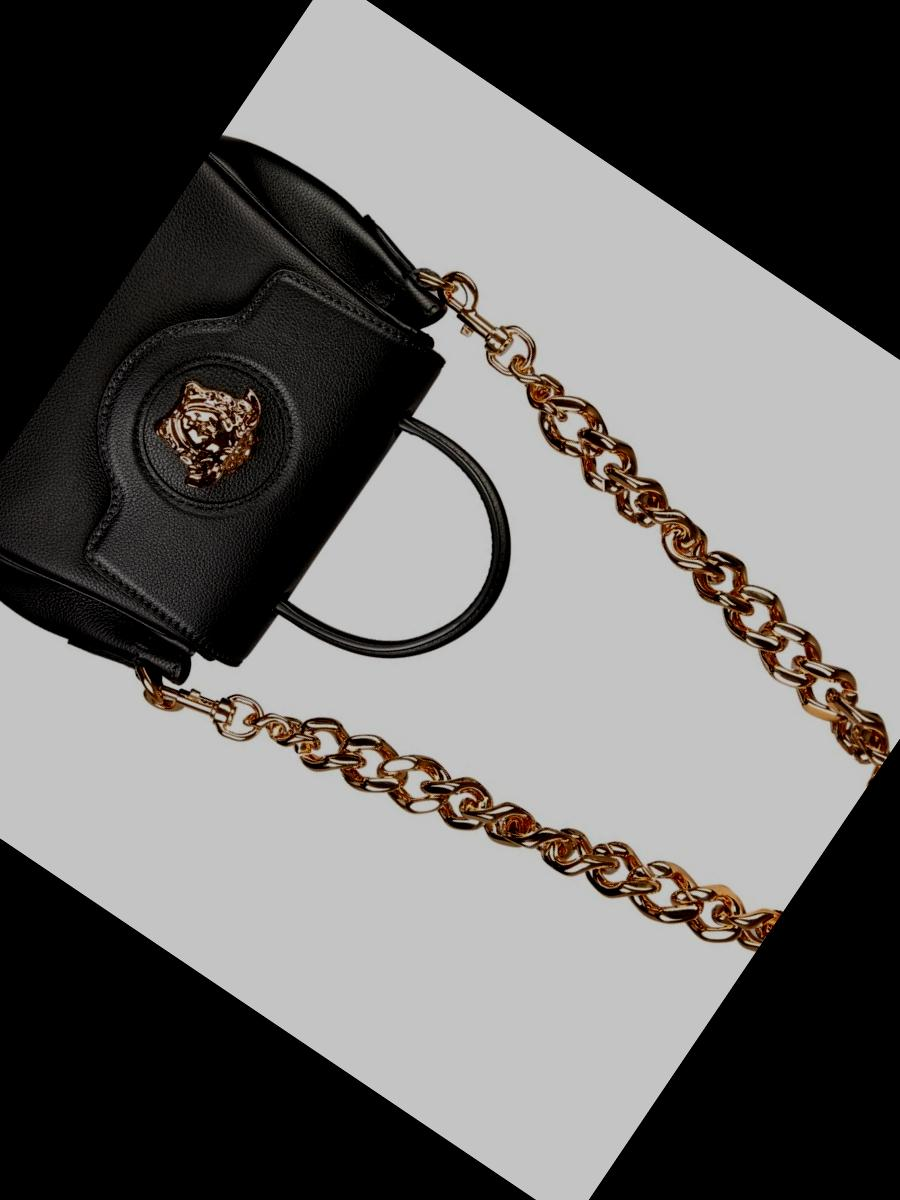VERSACE: (100, 324, 330, 554)
